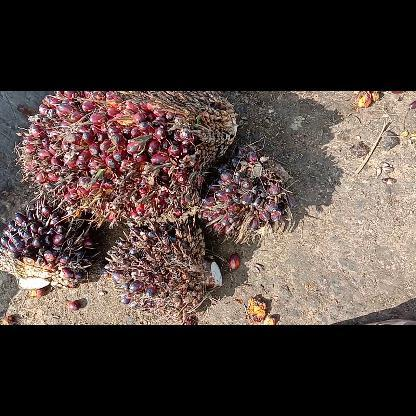TBS abnormal: (108, 226, 220, 312), (0, 206, 95, 288), (206, 152, 292, 240)
TBS masak: (20, 93, 236, 220)
